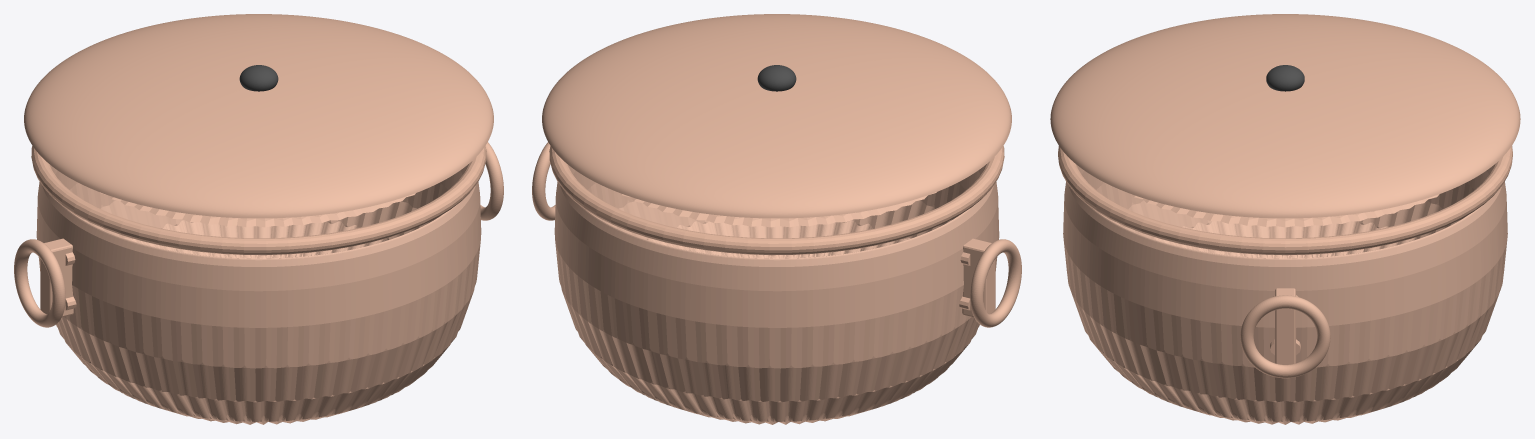
3 renders of one model, left to right at view 1: azimuth 30°, elevation 25°; view 2: azimuth 150°, elevation 25°; view 3: azimuth 270°, elevation 25°, orthographic.
Parts seen in each view (by area): view 1: Pot_Lid, Pot_Body, Pot_Rim, Pot_Handle_2, Lid_Rim, Pot_Handle_Connector_2, Pot_Handle_1, Lid_Knob_Top; view 2: Pot_Lid, Pot_Body, Pot_Rim, Pot_Handle_2, Lid_Rim, Pot_Handle_Connector_2, Pot_Handle_1, Lid_Knob_Top; view 3: Pot_Lid, Pot_Body, Pot_Rim, Pot_Handle_1, Lid_Rim, Pot_Handle_Connector_1, Lid_Knob_Top.
Boxes of the visible parts, x1=… form: Pot_Lid: x1=24, y1=14, x2=493, y2=218; Pot_Body: x1=36, y1=165, x2=481, y2=424; Pot_Rim: x1=31, y1=146, x2=486, y2=255; Pot_Handle_2: x1=14, y1=239, x2=65, y2=327; Lid_Rim: x1=99, y1=192, x2=415, y2=227; Pot_Handle_Connector_2: x1=40, y1=238, x2=73, y2=317; Pot_Handle_1: x1=480, y1=142, x2=503, y2=220; Lid_Knob_Top: x1=239, y1=65, x2=278, y2=91; Pot_Lid: x1=542, y1=14, x2=1011, y2=218; Pot_Body: x1=554, y1=165, x2=999, y2=424; Pot_Rim: x1=549, y1=146, x2=1004, y2=255; Pot_Handle_2: x1=970, y1=239, x2=1021, y2=327; Lid_Rim: x1=620, y1=192, x2=936, y2=227; Pot_Handle_Connector_2: x1=962, y1=238, x2=995, y2=317; Pot_Handle_1: x1=532, y1=142, x2=555, y2=220; Lid_Knob_Top: x1=757, y1=65, x2=796, y2=91; Pot_Lid: x1=1050, y1=14, x2=1520, y2=218; Pot_Body: x1=1063, y1=165, x2=1507, y2=424; Pot_Rim: x1=1058, y1=146, x2=1512, y2=255; Pot_Handle_1: x1=1240, y1=295, x2=1330, y2=378; Lid_Rim: x1=1131, y1=194, x2=1439, y2=227; Pot_Handle_Connector_1: x1=1275, y1=288, x2=1295, y2=364; Lid_Knob_Top: x1=1266, y1=65, x2=1304, y2=91.
Size of the model in its own units: 0.7391 by 0.517 by 0.6689.
